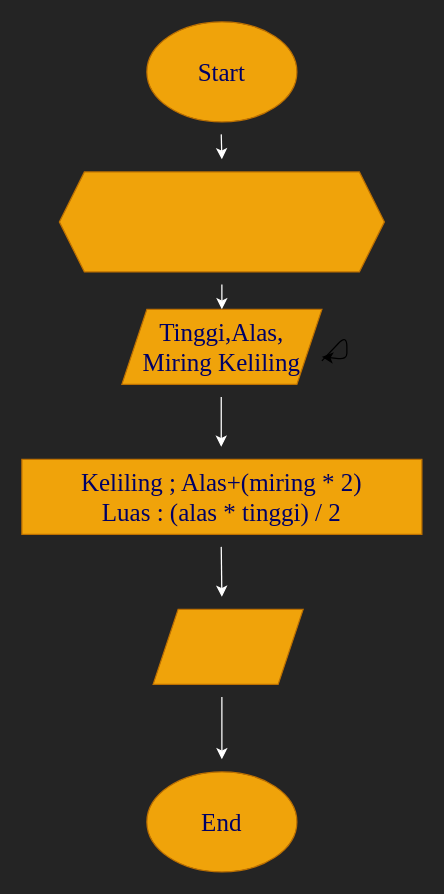
Image size: 444x894. Some labels were removed from this diagram. Here are the shapes that lost their labels. From the top down, the box of each, then its label:
(58, 171, 384, 272): Int : tinggi, alas, miring Float : luas, keliling
(152, 608, 303, 684): Keliling Luas
